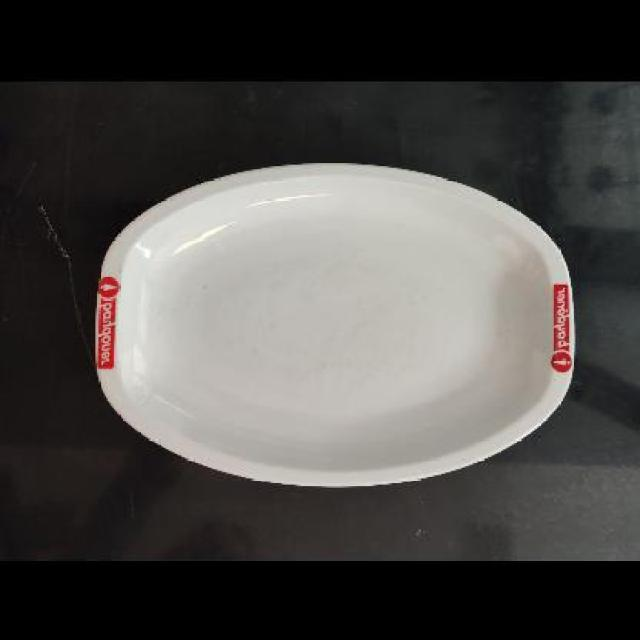plate: (94, 161, 577, 485)
